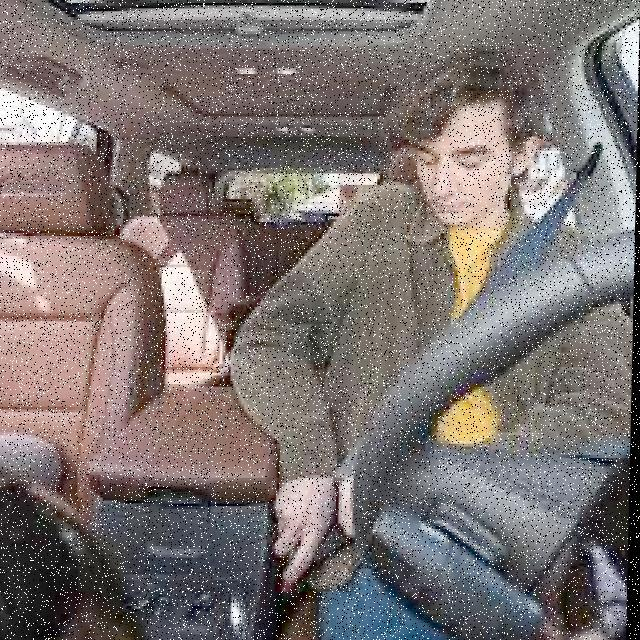seatbelt: (452, 159, 570, 303)
